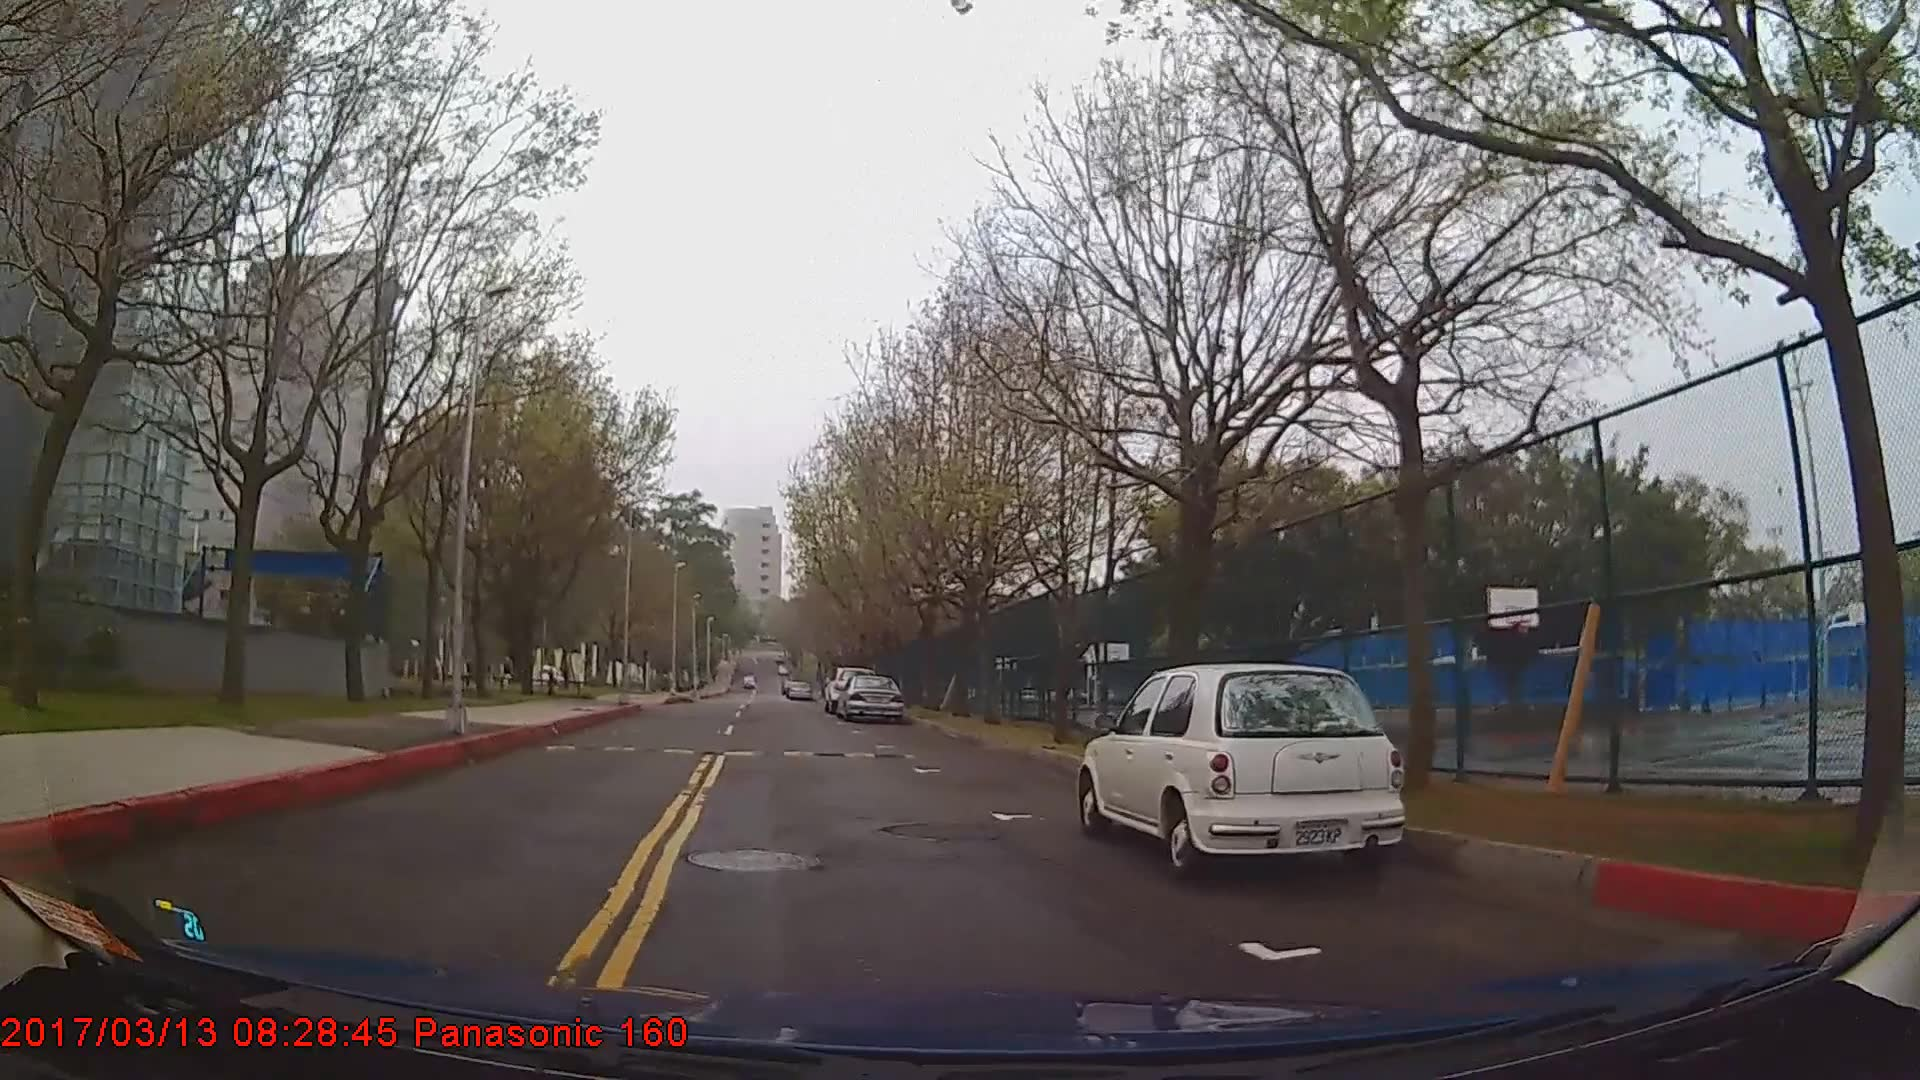vehicle: (1073, 659, 1406, 884), (833, 673, 903, 721)
